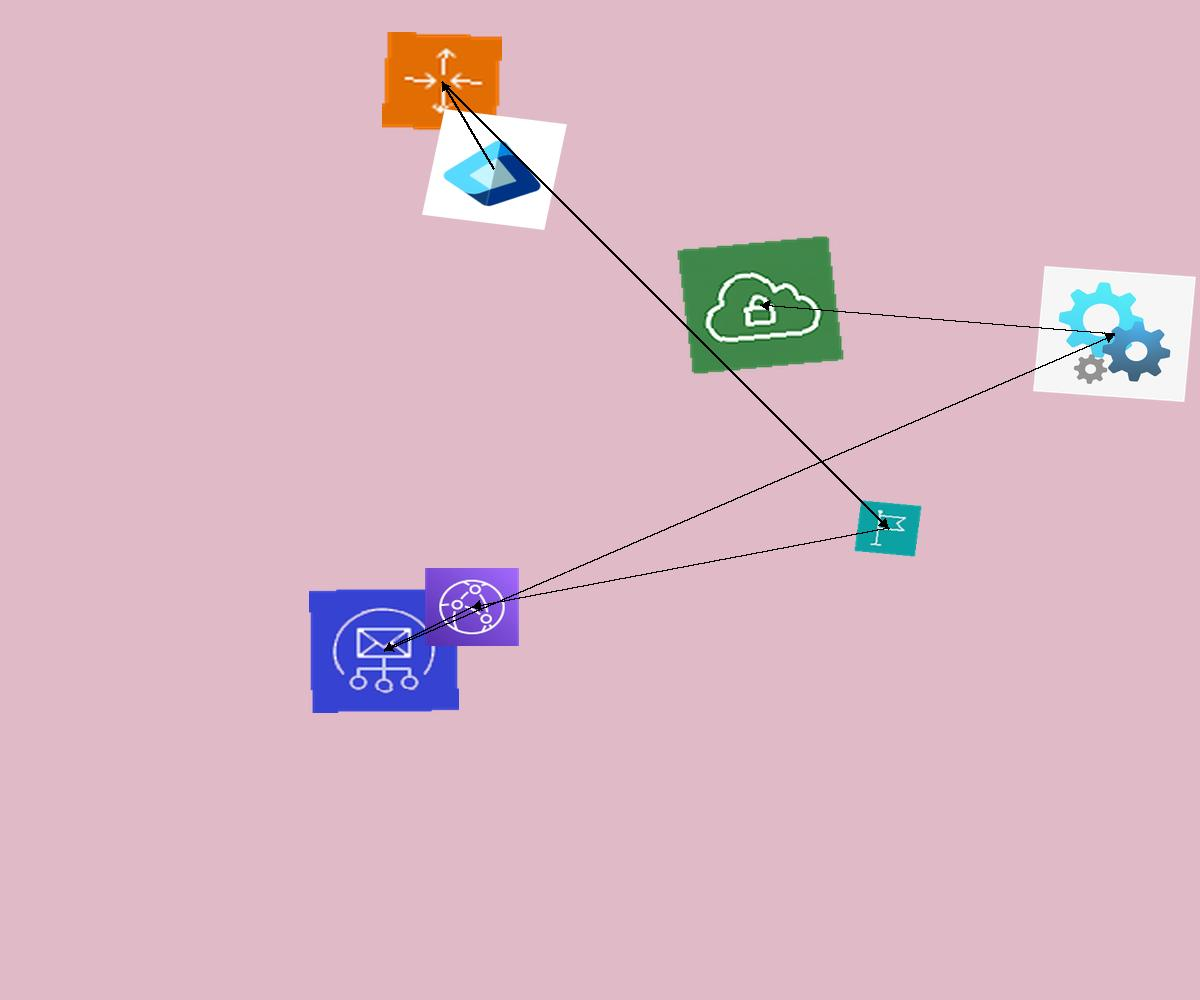AWS-CloudFront: (424, 567, 520, 647)
AWS-Private_vpc: (676, 235, 845, 375)
AWS-Region: (854, 500, 922, 557)
AWS-Scaling-group: (382, 32, 502, 132)
AWS-Simple-Email-Service: (309, 588, 459, 713)
Azure_api: (1033, 266, 1196, 402)
Azure_microsoft_entra: (422, 109, 567, 230)
